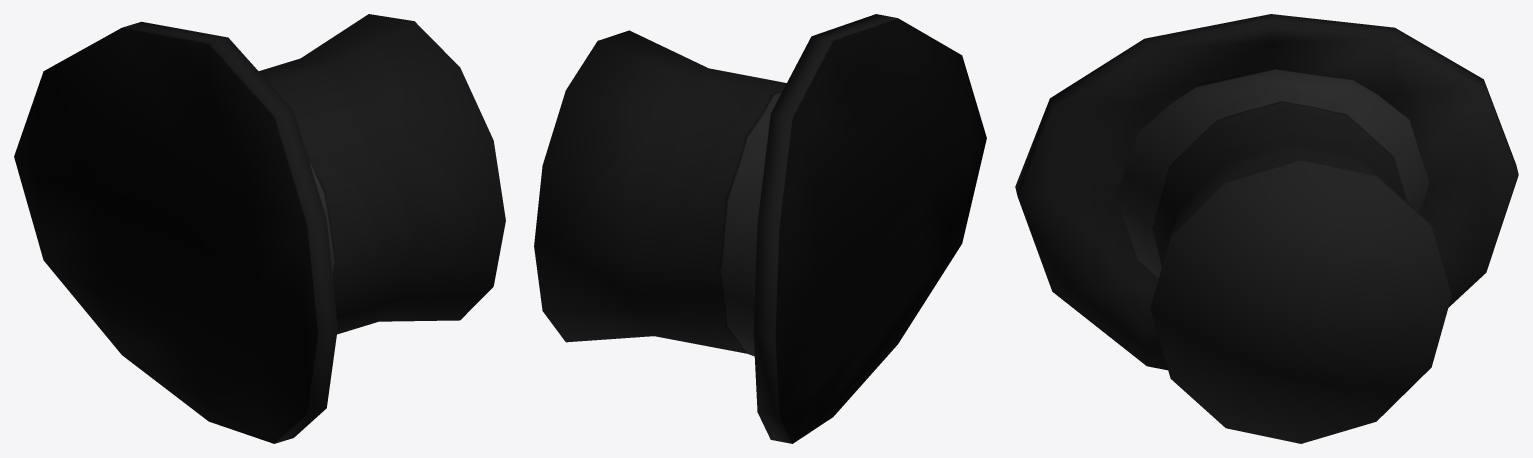
File: TopHat_AZ.fbx
3 views of the same model, side by side, from view 1: azimuth 30°, elevation 25°; view 2: azimuth 150°, elevation 25°; view 3: azimuth 270°, elevation 25° (orthographic). The views are drawn at different scales.
Visible parts, largest first — view 1: TopHat; view 2: TopHat; view 3: TopHat.
Boxes of the visible parts, x1,y1,x2,y2 form: TopHat: (14, 14, 505, 443); TopHat: (534, 14, 986, 443); TopHat: (1015, 14, 1518, 443).
Bounding box in the file's own units: 0.1553 × 0.1849 × 0.23.
